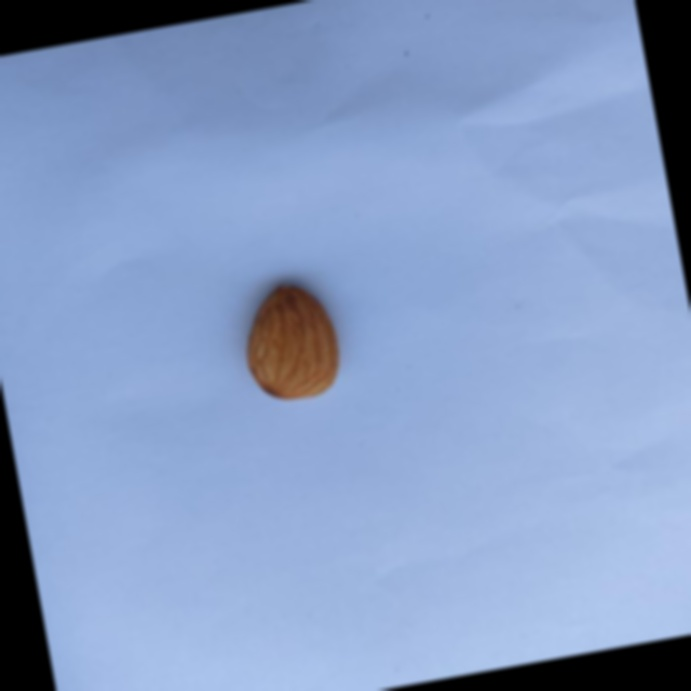grade1: (227, 267, 358, 415)
